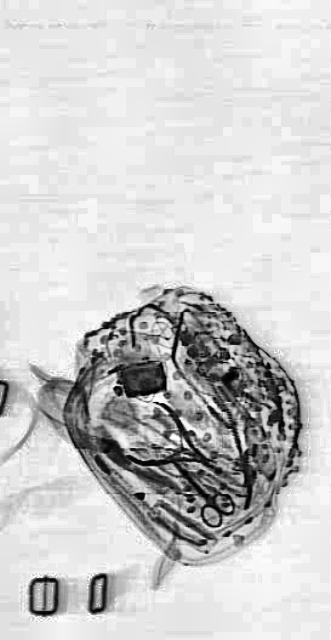Pliers: (124, 386, 220, 498)
Scissors: (165, 438, 235, 540)
